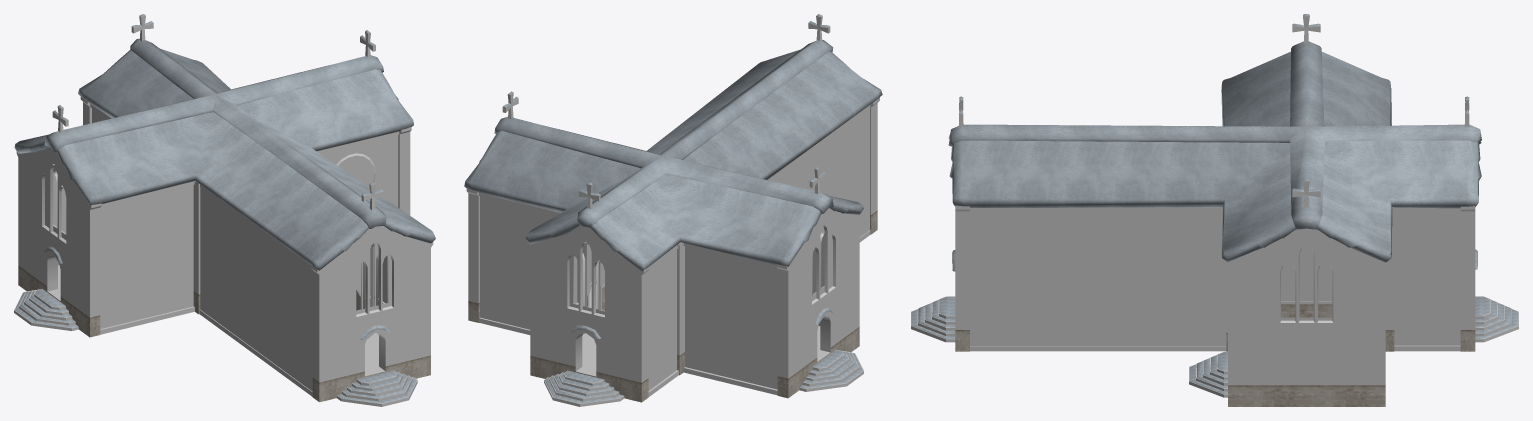
File: jiaotang_no.fbx
3 views of the same model, side by side, from view 1: azimuth 30°, elevation 25°; view 2: azimuth 150°, elevation 25°; view 3: azimuth 270°, elevation 25° (orthographic). The views are drawn at different scales.
Visible parts, largest first — view 1: jiaotang_snow_no, jiaotang_qiang01_no, jiaotang_qiang02_no, jiaotang_qiangti04_no, jiaotang_qiangti03_no, jiaotang_diban_no; view 2: jiaotang_snow_no, jiaotang_qiang01_no, jiaotang_qiang02_no, jiaotang_qiangti04_no, jiaotang_qiangti03_no, jiaotang_diban_no; view 3: jiaotang_snow_no, jiaotang_qiang02_no, jiaotang_qiang01_no, jiaotang_qiangti04_no, jiaotang_qiangti03_no.
Boxes of the visible parts, left/top/right/bottom form: jiaotang_snow_no: left=14, top=14, right=435, bottom=403; jiaotang_qiang01_no: left=16, top=96, right=433, bottom=382; jiaotang_qiang02_no: left=14, top=16, right=417, bottom=406; jiaotang_qiangti04_no: left=100, top=268, right=312, bottom=391; jiaotang_qiangti03_no: left=18, top=262, right=430, bottom=402; jiaotang_diban_no: left=58, top=267, right=378, bottom=368; jiaotang_snow_no: left=464, top=14, right=882, bottom=403; jiaotang_qiang01_no: left=466, top=97, right=879, bottom=382; jiaotang_qiang02_no: left=479, top=16, right=870, bottom=406; jiaotang_qiangti04_no: left=480, top=192, right=869, bottom=390; jiaotang_qiangti03_no: left=468, top=210, right=877, bottom=402; jiaotang_diban_no: left=582, top=285, right=820, bottom=368; jiaotang_snow_no: left=911, top=14, right=1518, bottom=394; jiaotang_qiang02_no: left=911, top=16, right=1518, bottom=397; jiaotang_qiang01_no: left=955, top=205, right=1475, bottom=385; jiaotang_qiangti04_no: left=970, top=304, right=1460, bottom=345; jiaotang_qiangti03_no: left=955, top=304, right=1475, bottom=406.
Bounding box in the file's own units: 30.61 × 16.76 × 41.06.
